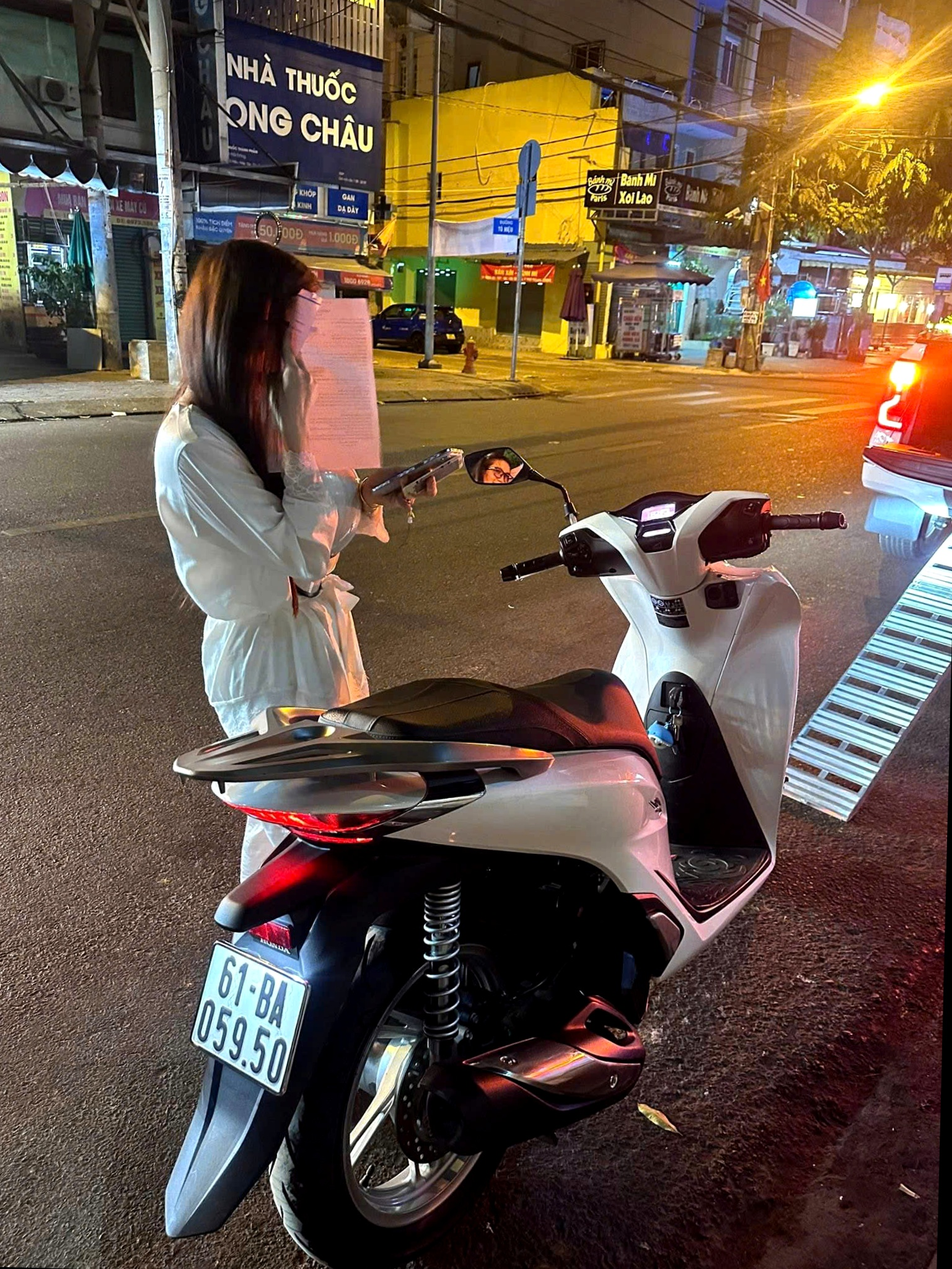Bien-so: (245, 967, 393, 1128)
